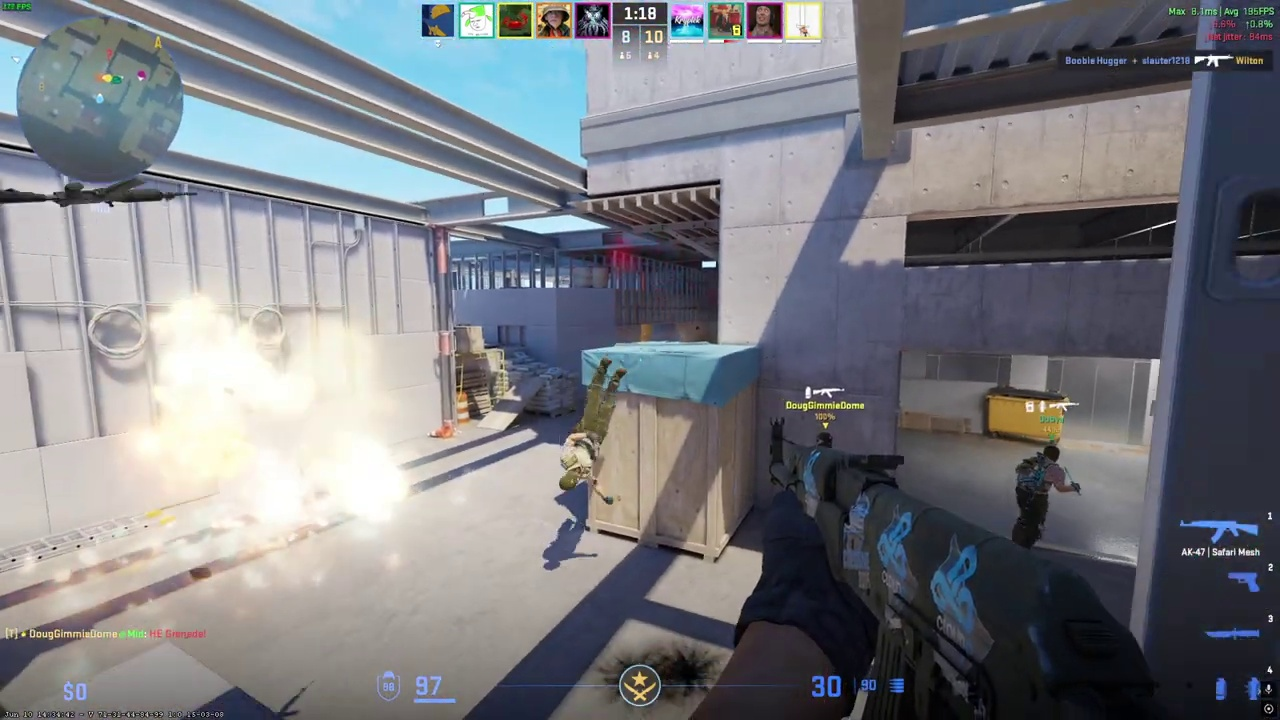Terrorist: (1013, 442, 1067, 549)
